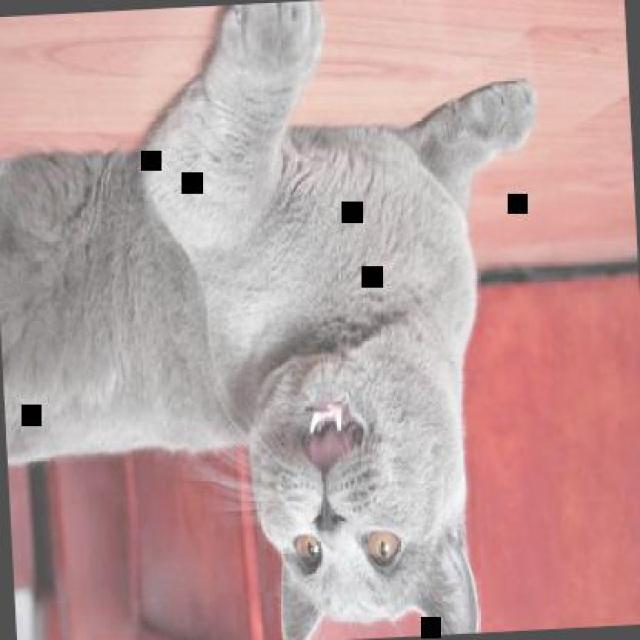cat: (0, 0, 563, 638)
